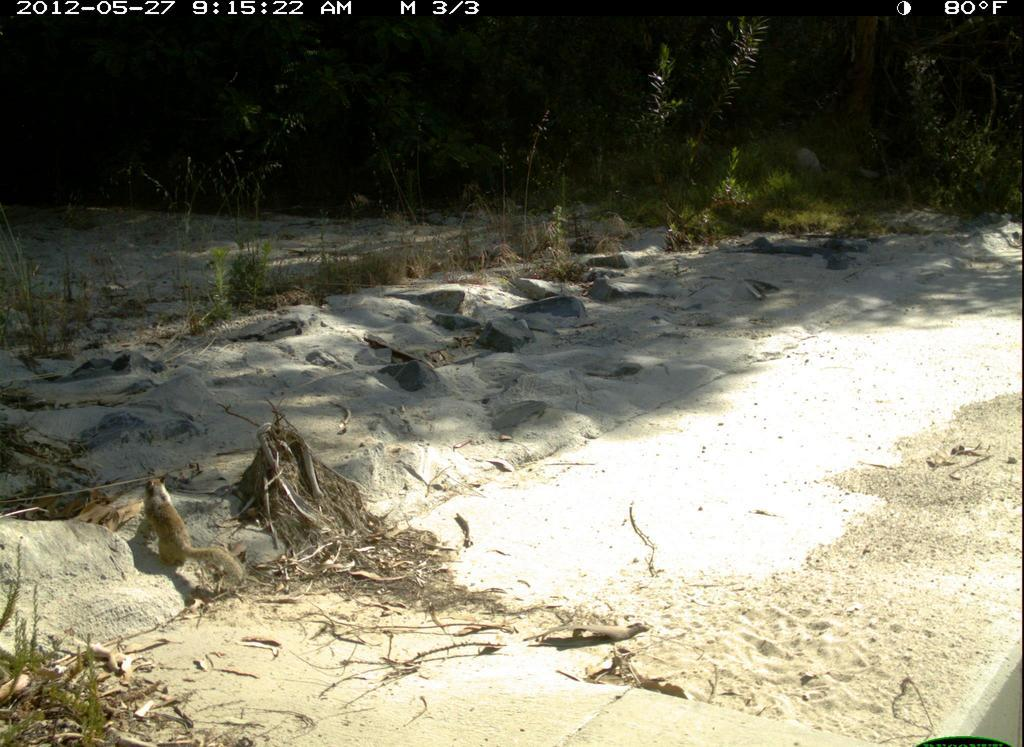squirrel: (112, 459, 269, 600)
